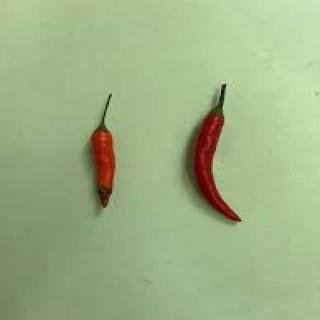Cabai Merah: (192, 86, 241, 224), (88, 96, 116, 209)
